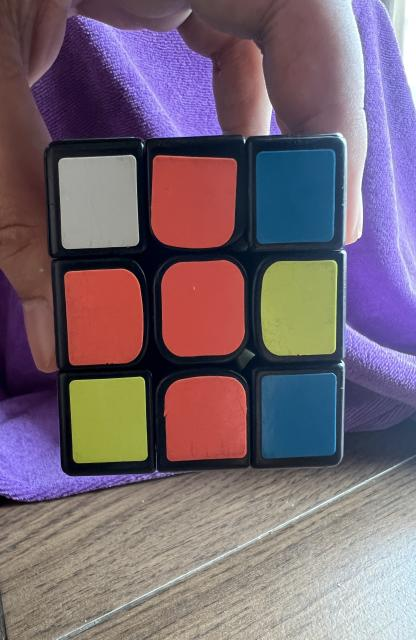Blue: (257, 149, 336, 244), (261, 372, 337, 459)
Orange: (151, 155, 237, 249), (161, 260, 245, 356), (64, 269, 144, 365), (164, 376, 247, 461)
White: (58, 155, 140, 249)
Yellow: (260, 261, 338, 357), (69, 376, 147, 464)
